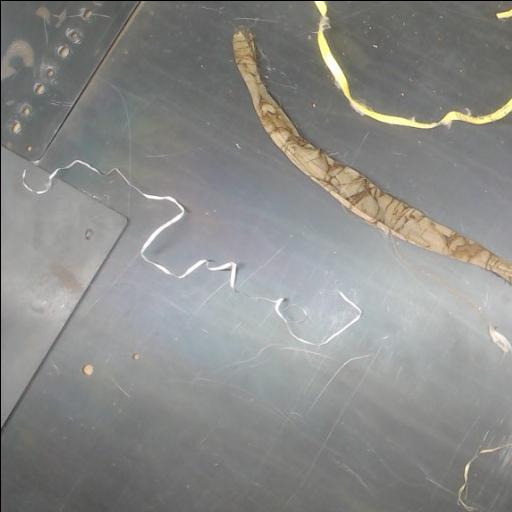cloth: (234, 33, 512, 283)
conveyor belt: (35, 1, 512, 512)
thread: (314, 1, 512, 128), (103, 168, 237, 289), (255, 290, 360, 345), (458, 440, 512, 509), (49, 159, 100, 177), (489, 326, 512, 352)
